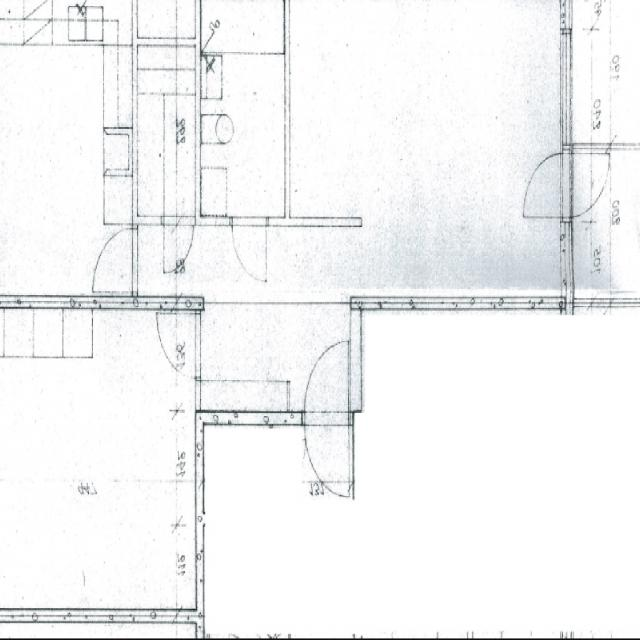door: (303, 337, 348, 425), (303, 410, 348, 497), (560, 153, 613, 216), (522, 153, 574, 216), (158, 315, 202, 377), (94, 230, 137, 291), (232, 216, 267, 283), (165, 216, 193, 272)
